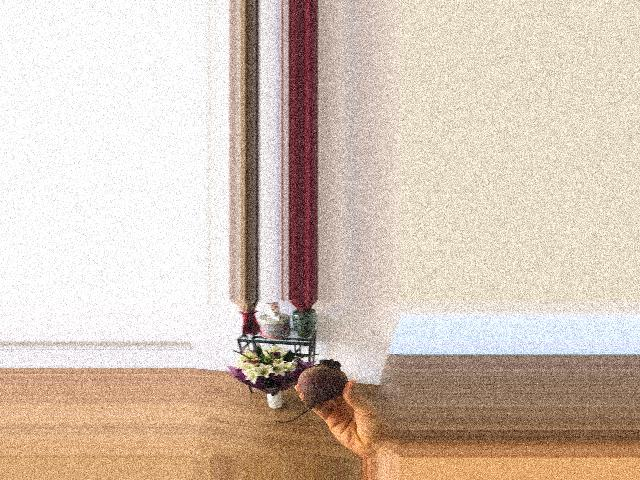beet: (274, 359, 347, 422)
